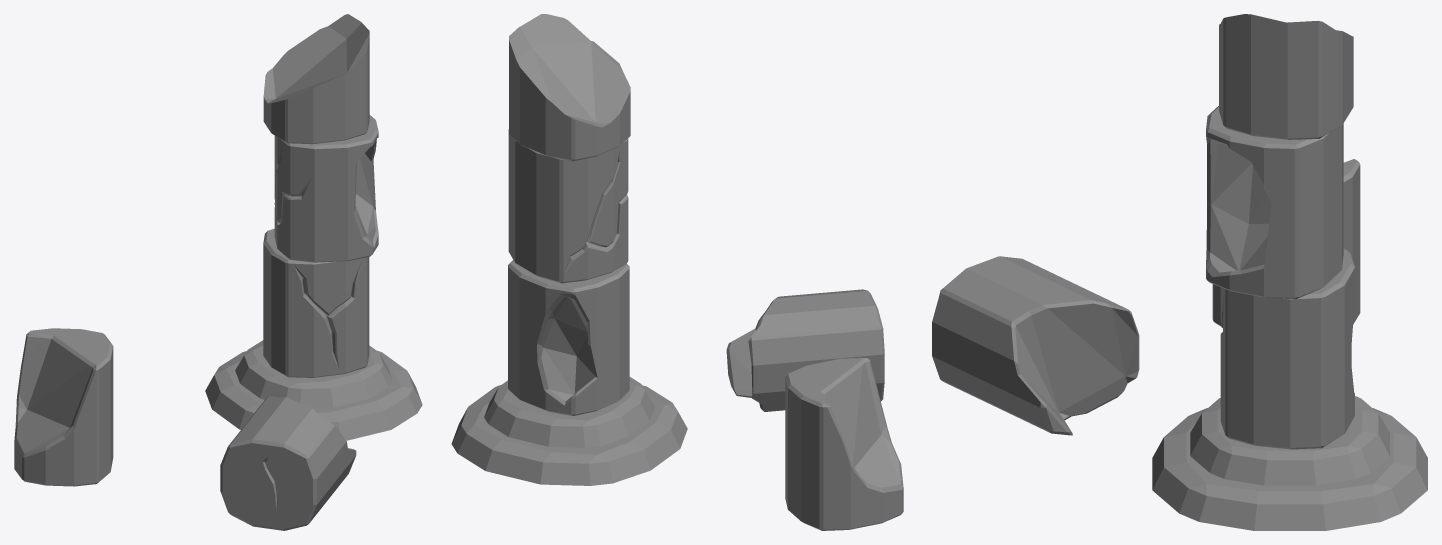
Rendered from GateDecoLeft_01.fbx.
3 views of the same model, side by side, from view 1: azimuth 30°, elevation 25°; view 2: azimuth 150°, elevation 25°; view 3: azimuth 270°, elevation 25° (orthographic). The views are drawn at different scales.
Parts seen in each view (by area): view 1: GatesBlocks; view 2: GatesBlocks; view 3: GatesBlocks.
Part boxes in pixels (<box>): GatesBlocks: <box>14,14,422,530</box>; GatesBlocks: <box>451,14,903,530</box>; GatesBlocks: <box>932,14,1427,530</box>.
Size of the model in its own units: 293 by 271 by 246.
